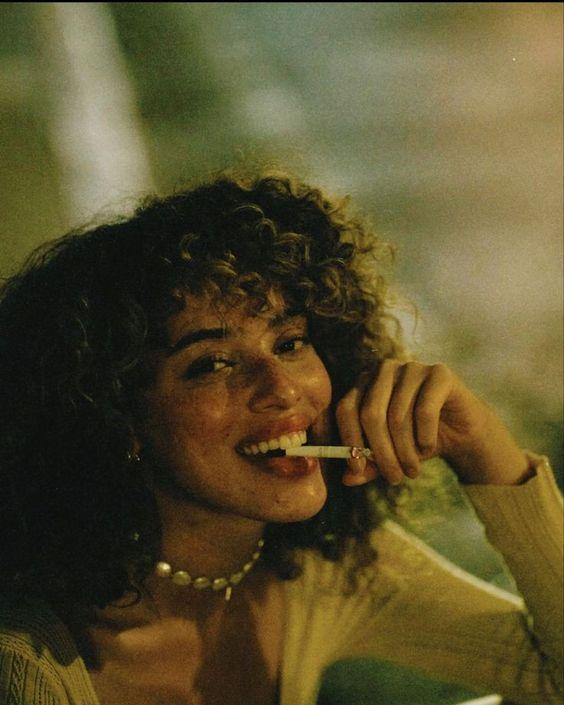cigarette: (285, 447, 375, 458)
